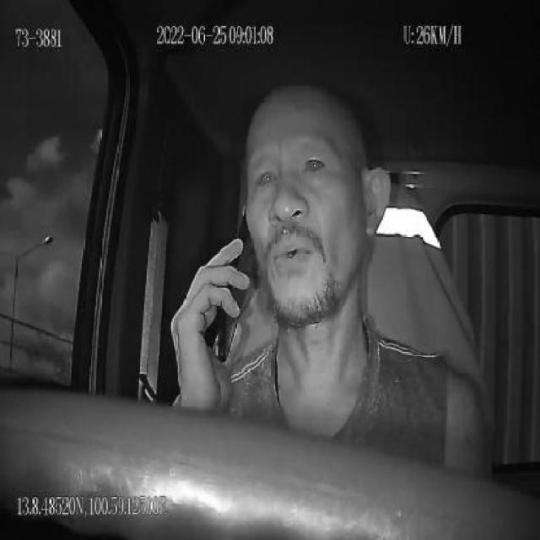phone: (214, 208, 253, 360)
